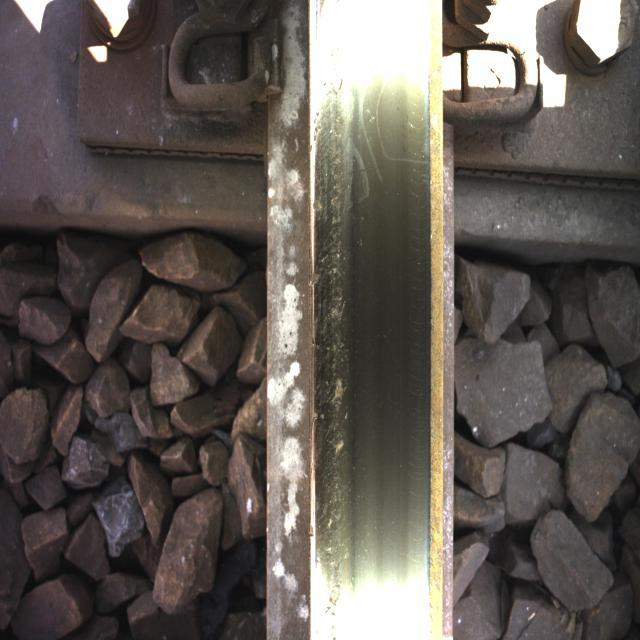scar: (310, 65, 371, 605)
